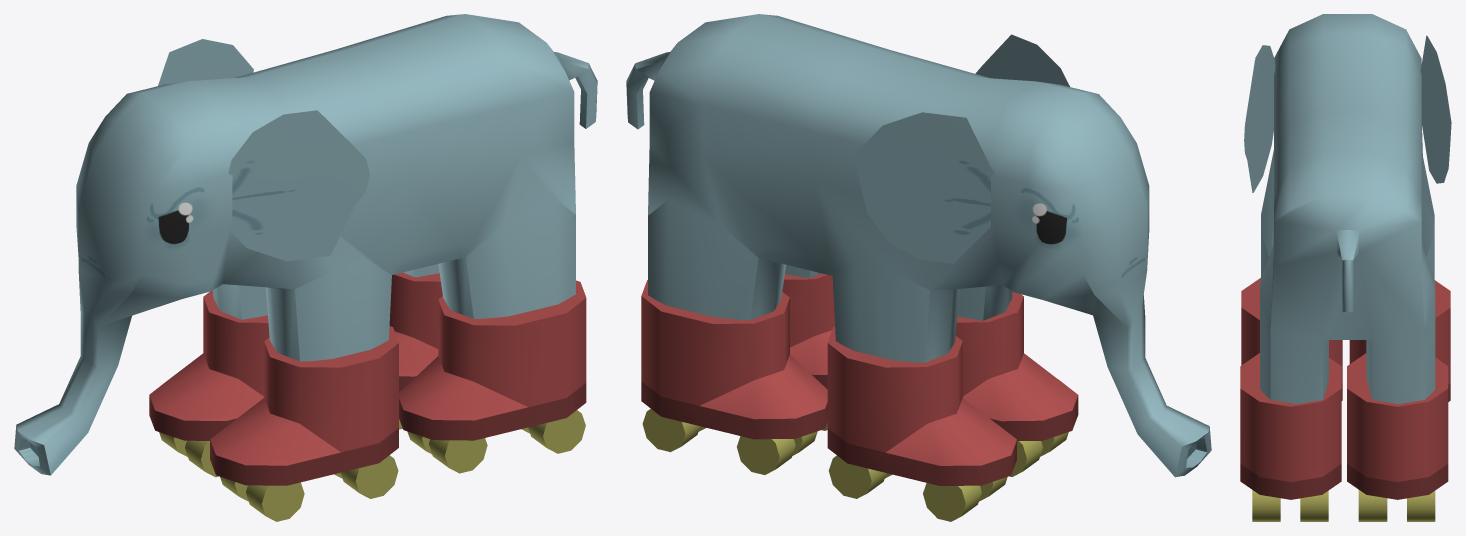
The model's file is Elephantrollerskates.fbx.
3 renders of one model, left to right at view 1: azimuth 30°, elevation 25°; view 2: azimuth 150°, elevation 25°; view 3: azimuth 270°, elevation 25°, orthographic. The views are drawn at different scales.
Parts seen in each view (by area): view 1: polySurface31, polySurface25, polySurface21, polySurface14, polySurface24, polySurface11, polySurface6; view 2: polySurface31, polySurface25, polySurface7, polySurface3, polySurface8, polySurface4, polySurface22; view 3: polySurface31, polySurface25, polySurface5, polySurface14, polySurface4, polySurface13.
Boxes of the visible parts, box(x1,y1,x2,y2) form: polySurface31: box(14, 14, 597, 475); polySurface25: box(149, 272, 586, 485); polySurface21: box(246, 482, 304, 521); polySurface14: box(528, 410, 585, 453); polySurface24: box(341, 455, 398, 498); polySurface11: box(429, 438, 487, 473); polySurface6: box(185, 440, 218, 477); polySurface31: box(626, 14, 1211, 477); polySurface25: box(641, 273, 1078, 485); polySurface7: box(923, 483, 981, 521); polySurface3: box(737, 436, 795, 474); polySurface8: box(828, 455, 886, 498); polySurface4: box(642, 409, 700, 452); polySurface22: box(1009, 441, 1042, 476); polySurface31: box(1244, 14, 1451, 404); polySurface25: box(1240, 278, 1450, 499); polySurface5: box(1358, 490, 1387, 521); polySurface14: box(1252, 490, 1280, 521); polySurface4: box(1407, 491, 1435, 521); polySurface13: box(1300, 491, 1328, 521).
Size of the model in its own units: 3.98 by 2.65 by 1.43.
